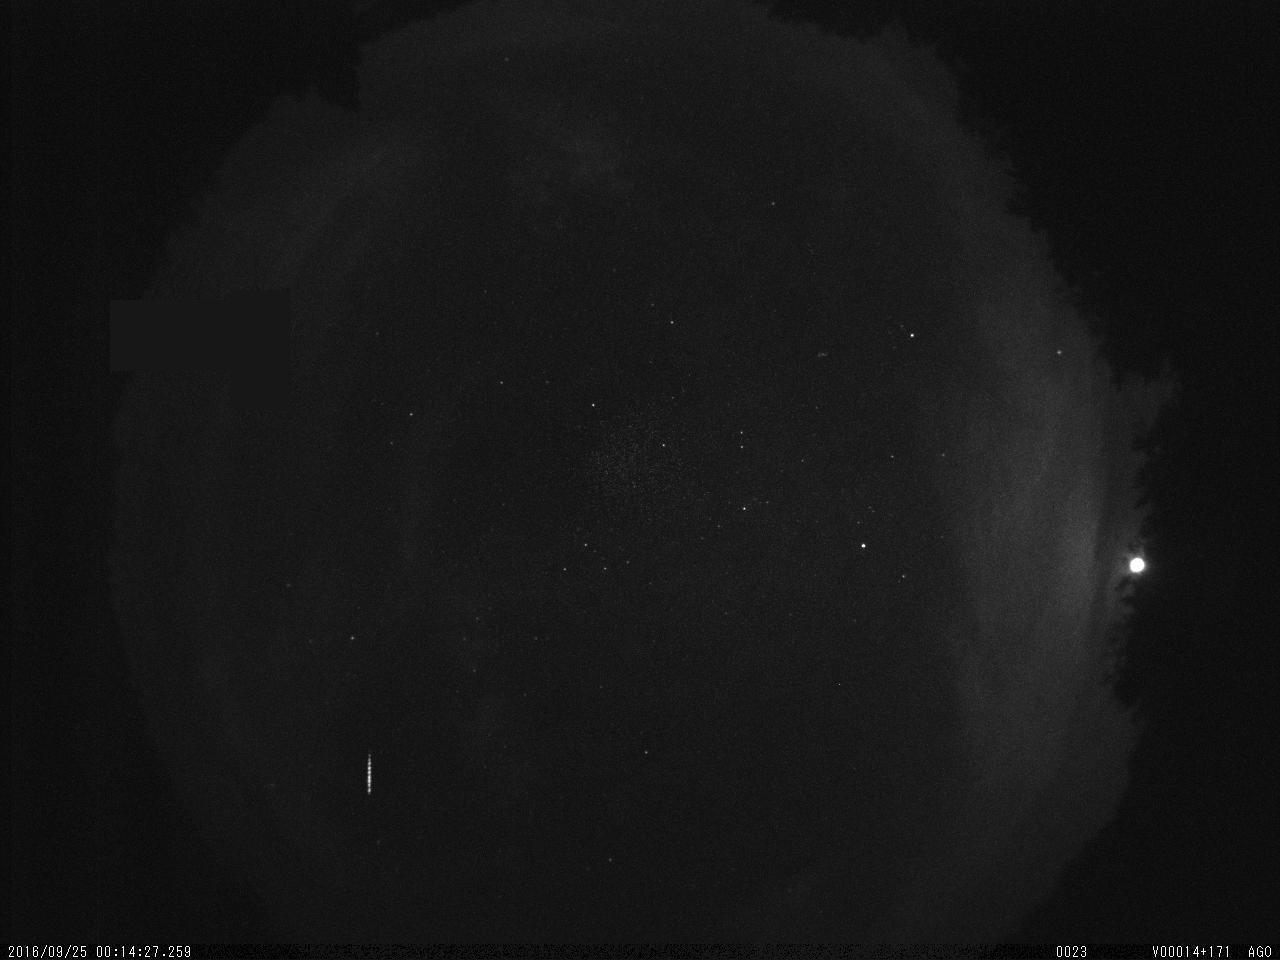Meteor: (362, 748, 377, 798)
